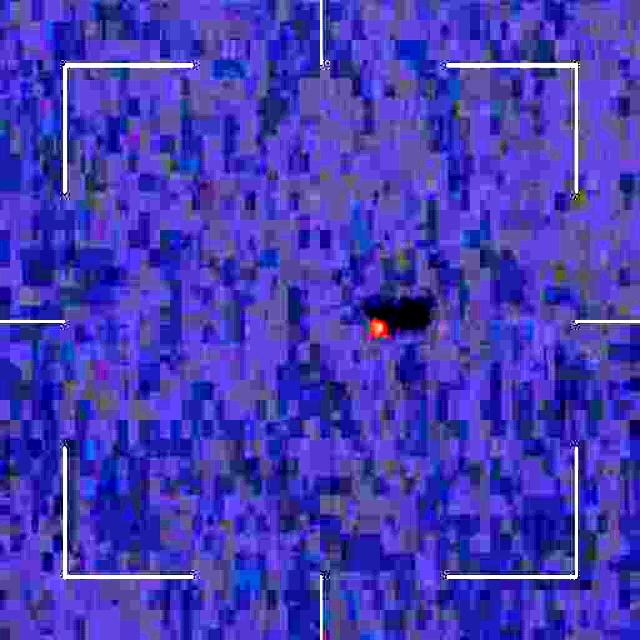bird: (366, 301, 396, 349)
